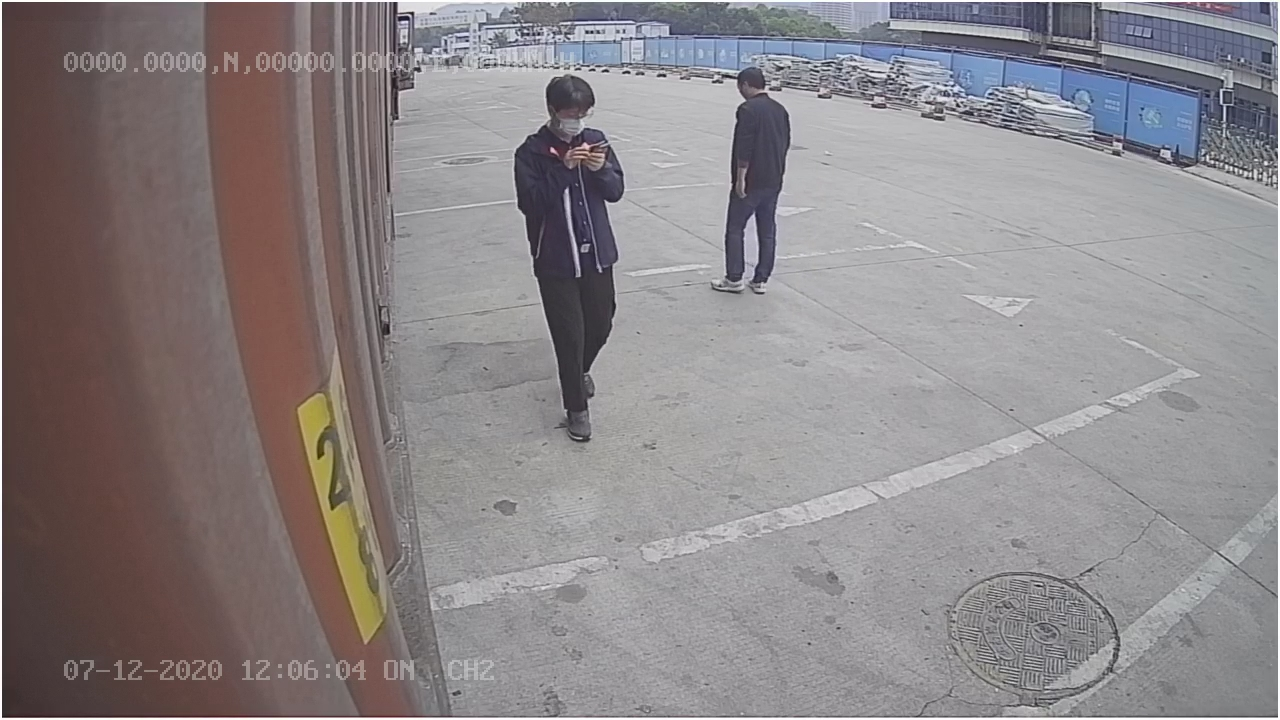person: (509, 67, 625, 444), (708, 64, 790, 295)
